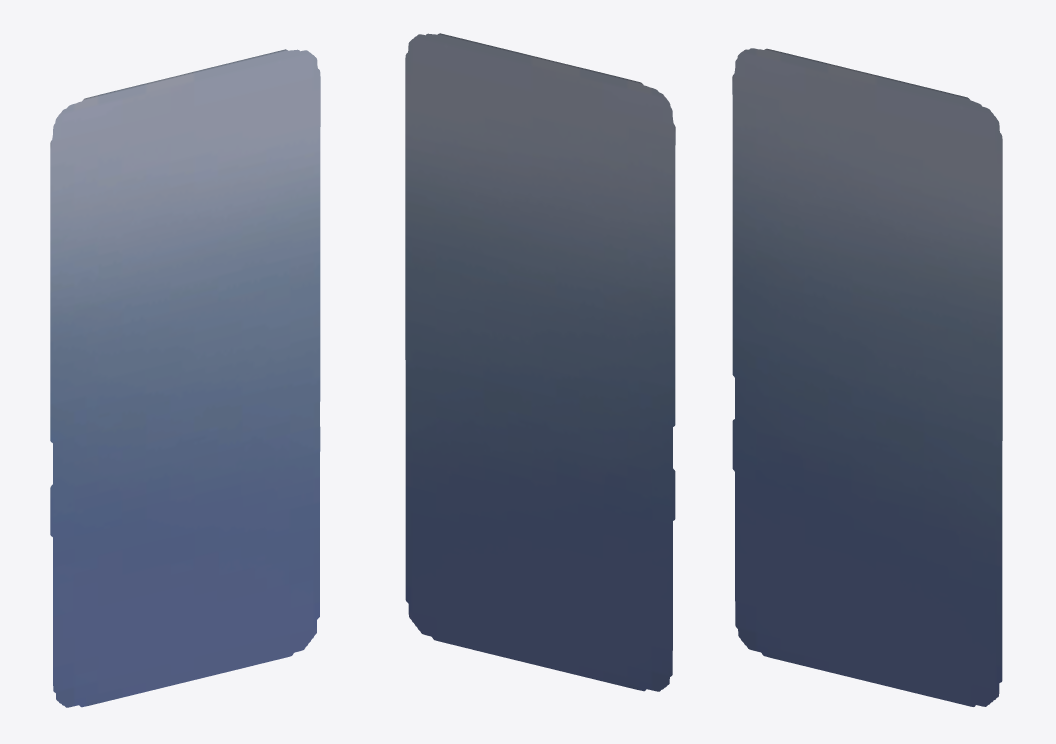
File: Player_Girl_Qingque_LookAtPhone_00.fbx
3 views of the same model, side by side, from view 1: azimuth 30°, elevation 25°; view 2: azimuth 150°, elevation 25°; view 3: azimuth 330°, elevation 25° (orthographic).
Parts seen in each view (by area): view 1: LookAtPhone_00_Phone_Model; view 2: LookAtPhone_00_Phone_Model; view 3: LookAtPhone_00_Phone_Model.
Boxes of the visible parts, bbox=[...] form: LookAtPhone_00_Phone_Model: bbox=[50, 49, 320, 707]; LookAtPhone_00_Phone_Model: bbox=[405, 33, 675, 691]; LookAtPhone_00_Phone_Model: bbox=[732, 48, 1002, 706].
Bounding box in the file's own units: 0.0619 × 0.1245 × 0.0076.
1 material, 1 textured.
